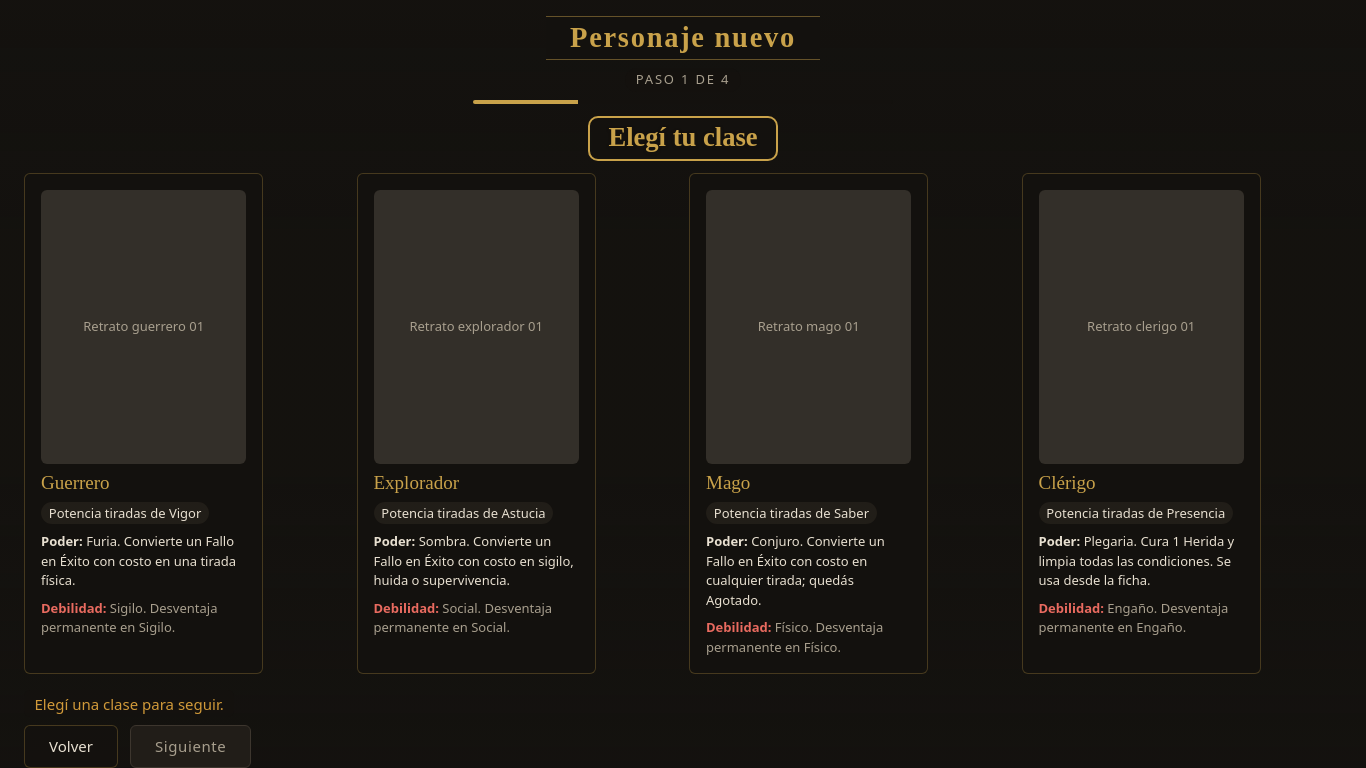
Test: CreacionScreen › no deja avanzar del paso 1 sin elegir clase, y dice por qué
The width and height of the screenshot is (1366, 768).
Check: the button with test id "siguiente" is disabled, box [130, 726, 251, 767]
Check: the text "Elegí una clase para seguir." is shown, box [24, 690, 234, 718]
Step 1. Click the button with test id "clase-guerrero" → click(144, 424), box [24, 173, 263, 674]
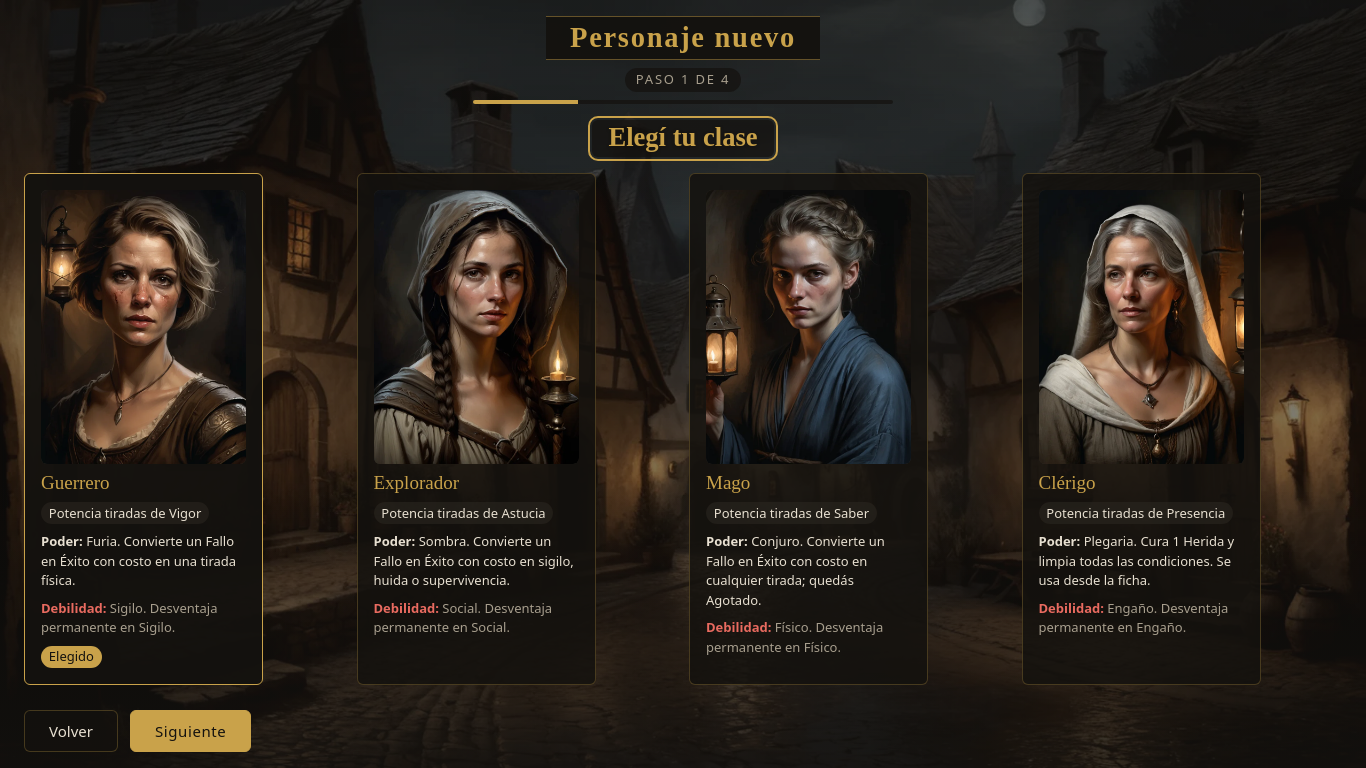
Check: the button with test id "siguiente" is enabled, box [130, 710, 251, 752]
Check: the text "Elegí una clase para seguir." is gone
